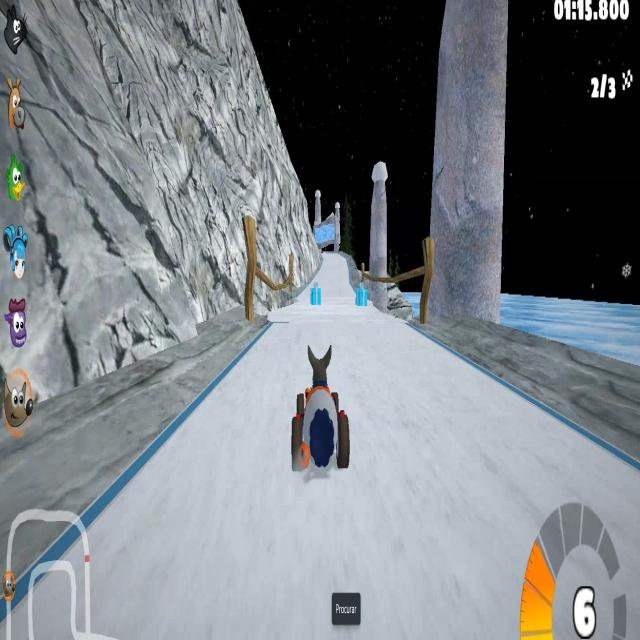bonus: (309, 279, 325, 312), (351, 288, 368, 309)
player_kart: (290, 337, 351, 486)
track: (359, 343, 460, 578), (320, 251, 344, 287)
